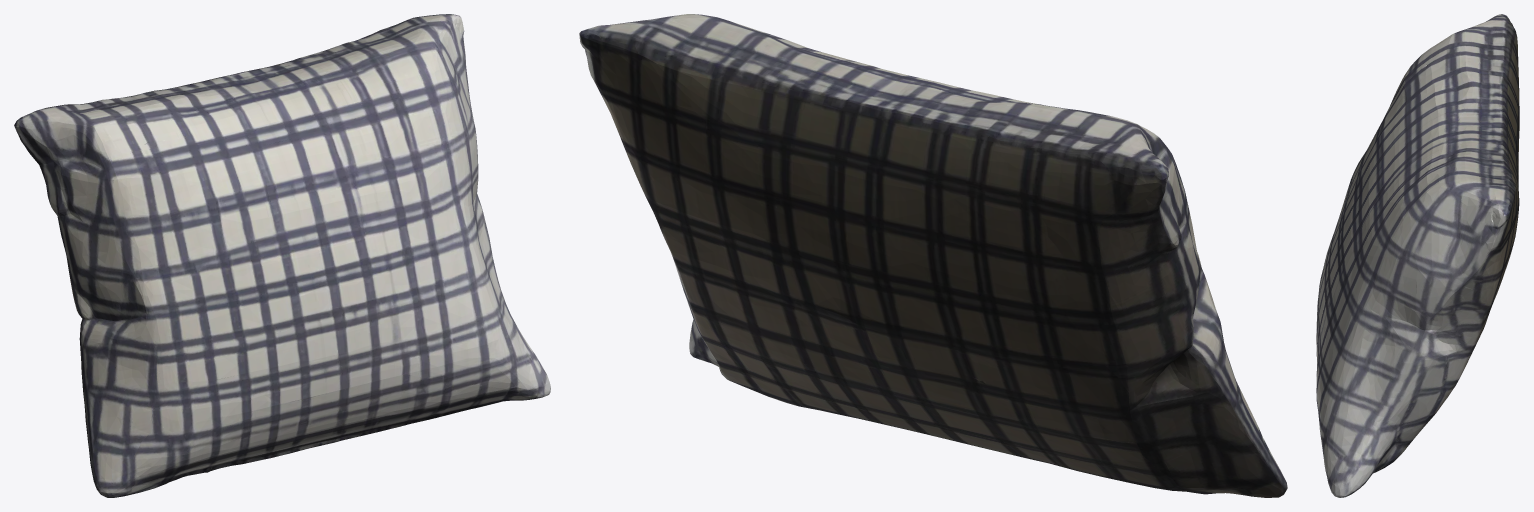
Rendered from 46b059e2-dba0-4a1b-94cc-63e13121fea4.glb.
3 renders of one model, left to right at view 1: azimuth 30°, elevation 25°; view 2: azimuth 150°, elevation 25°; view 3: azimuth 270°, elevation 25°, orthographic. The views are drawn at different scales.
Visible parts, largest first — view 1: world; view 2: world; view 3: world.
Part boxes in pixels (x1,y1,x2,y2): world: (14,14,550,497); world: (579,14,1287,497); world: (1316,14,1519,497).
Bounding box in the file's own units: 0.9995 × 0.6844 × 0.4276.
Materials: 1 (1 with a texture image).
